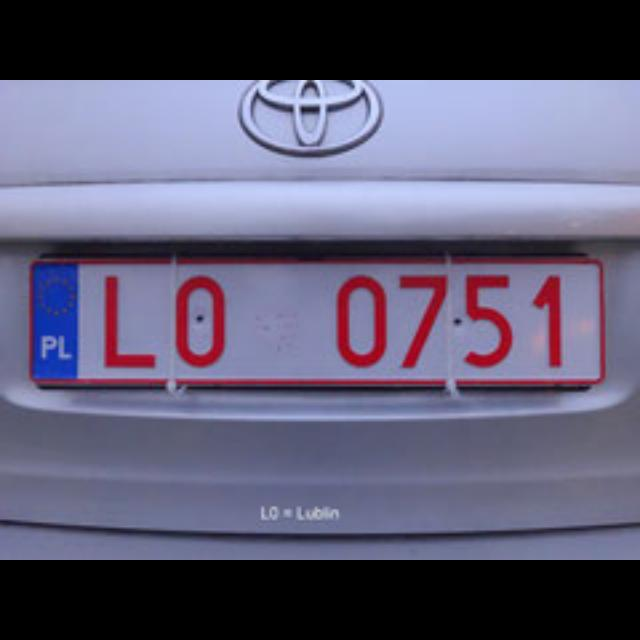pl_license_plate: (27, 256, 603, 382)
